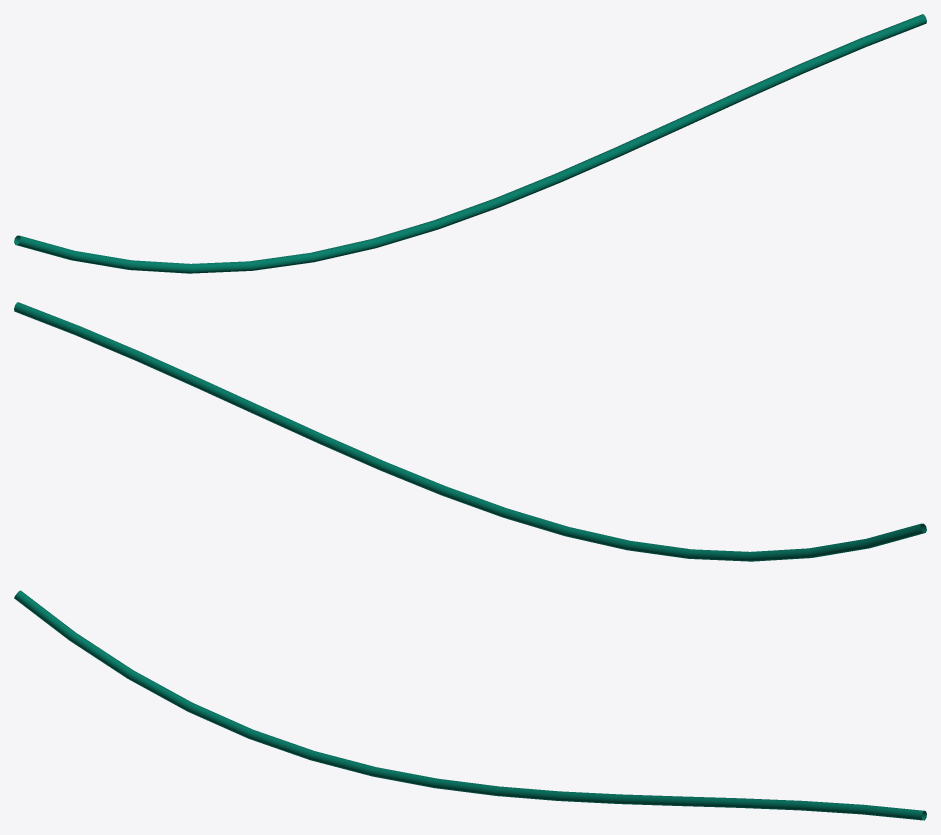
The model's file is SM_Cable_02.fbx.
The picture shows the model from 3 angles, top to bottom: view 1: azimuth 30°, elevation 25°; view 2: azimuth 150°, elevation 25°; view 3: azimuth 330°, elevation 25°; orthographic projection.
Visible parts, largest first — view 1: SM_Cable_02; view 2: SM_Cable_02; view 3: SM_Cable_02.
Boxes of the visible parts, bbox=[...] form: SM_Cable_02: bbox=[14, 14, 926, 273]; SM_Cable_02: bbox=[14, 302, 926, 561]; SM_Cable_02: bbox=[14, 590, 926, 820].
Size of the model in its own units: 6.12 by 0.6414 by 0.061.
